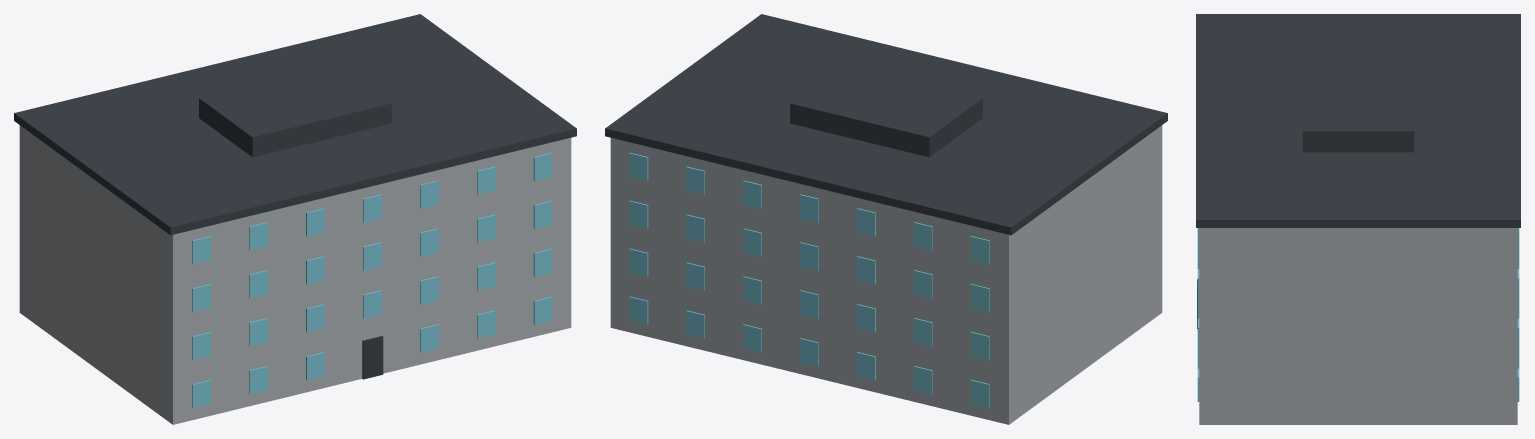
File: commercial_01.glb
The picture shows the model from 3 angles, left to right: view 1: azimuth 30°, elevation 25°; view 2: azimuth 150°, elevation 25°; view 3: azimuth 270°, elevation 25°; orthographic projection. The views are drawn at different scales.
Visible parts, largest first — view 1: body, roof, mech, door; view 2: body, roof, mech; view 3: body, roof, mech.
Part boxes in pixels (x1,y1,x2,y2): body: (19,125,571,424); roof: (14,14,576,235); mech: (199,64,391,157); door: (362,336,383,379); body: (610,125,1162,424); roof: (605,14,1167,235); mech: (790,64,982,157); body: (1199,228,1517,424); roof: (1196,14,1520,227); mech: (1302,60,1414,152).
Size of the model in its own units: 24.48 by 12.64 by 16.32.
